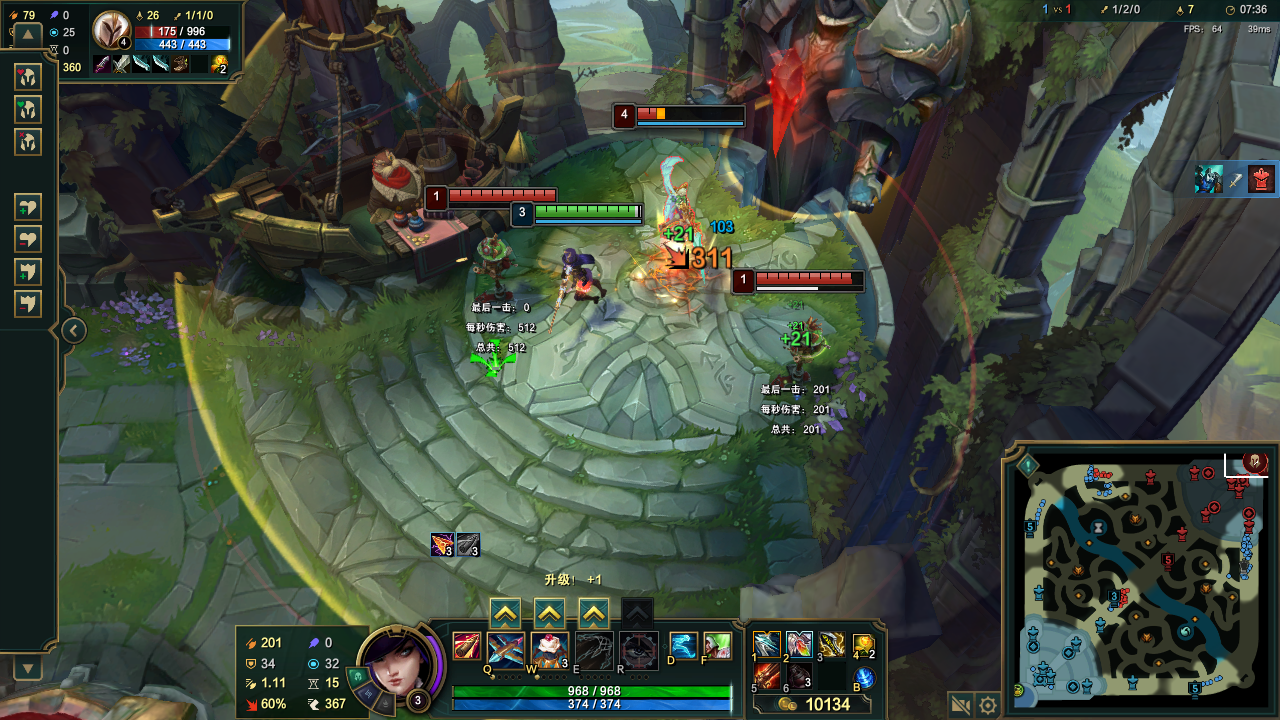DFYX: (633, 105, 751, 125), (752, 271, 869, 285), (448, 189, 555, 200)
